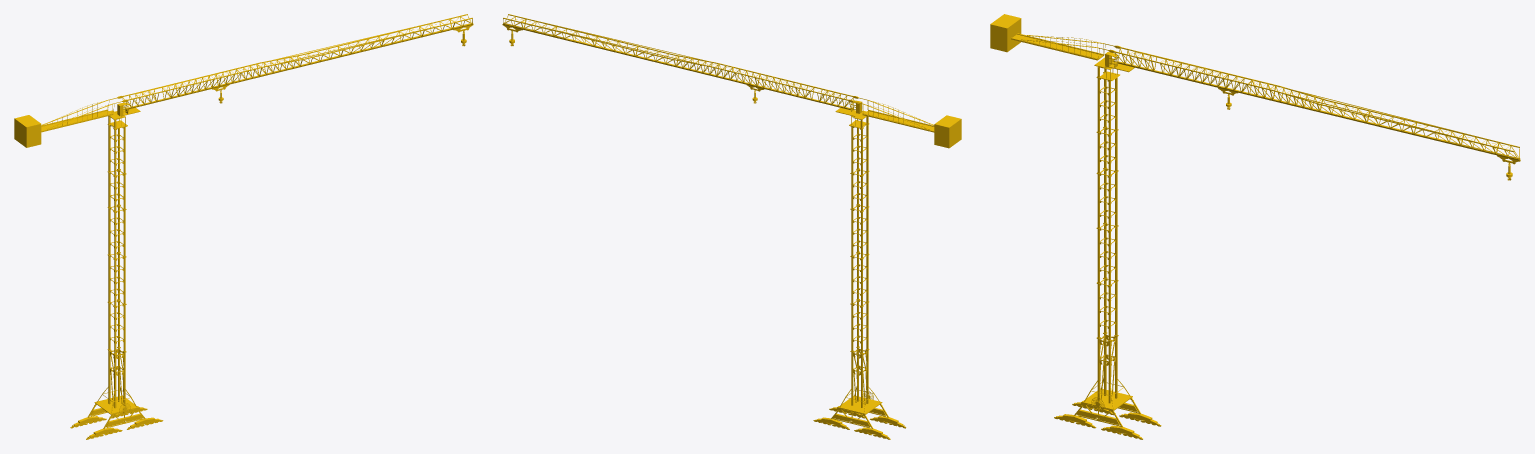
3 renders of one model, left to right at view 1: azimuth 30°, elevation 25°; view 2: azimuth 150°, elevation 25°; view 3: azimuth 330°, elevation 25°, orthographic. The views are drawn at different scales.
Parts seen in each view (by area): view 1: R370, Plane.002; view 2: R370, Plane.002; view 3: R370, Plane.002.
Boxes of the visible parts, box(x1,y1,x2,y2) form: R370: box(14, 115, 163, 439); Plane.002: box(26, 14, 473, 147); R370: box(813, 115, 961, 439); Plane.002: box(502, 14, 934, 132); R370: box(990, 14, 1161, 439); Plane.002: box(990, 24, 1520, 180).
Size of what is drawn, in the model's own units: 97.87 by 67.18 by 6.54.
